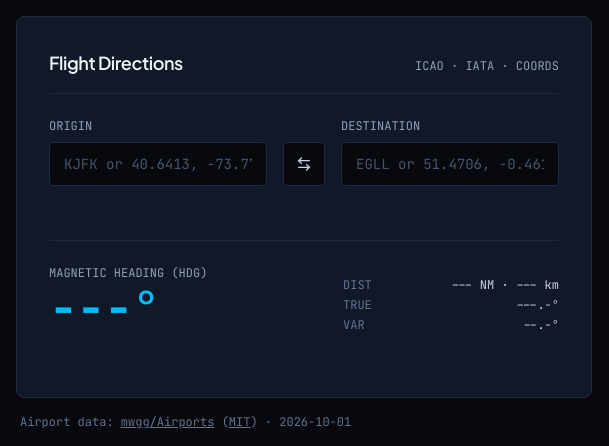
Scenario: App › shows offline when the bundled snapshot returns 404
Step 1. Type "KJFK" into the field labelled "ORIGIN" → (158,164), box [49, 142, 267, 186]
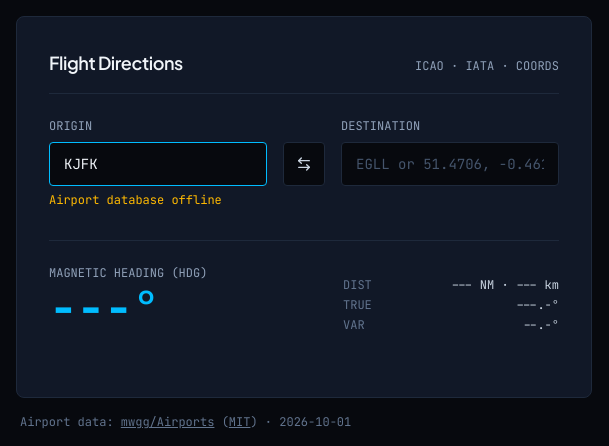
expect the text "Airport database offline" is shown: met, box [49, 192, 222, 208]
